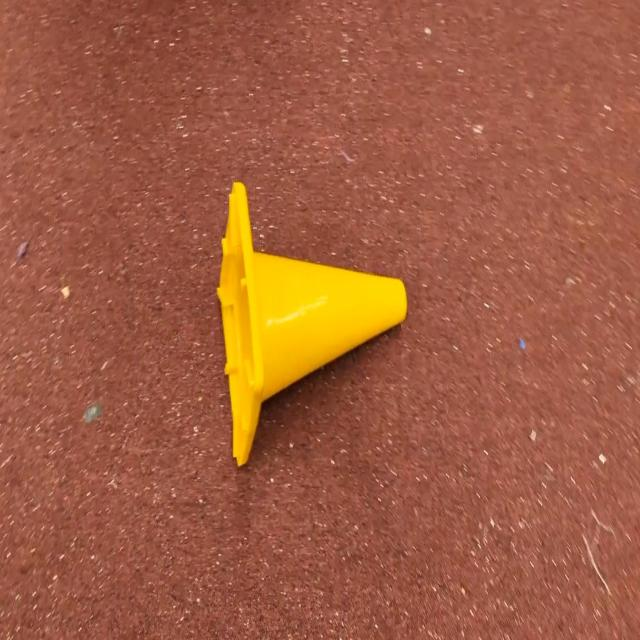frc_cone: (214, 179, 408, 465)
